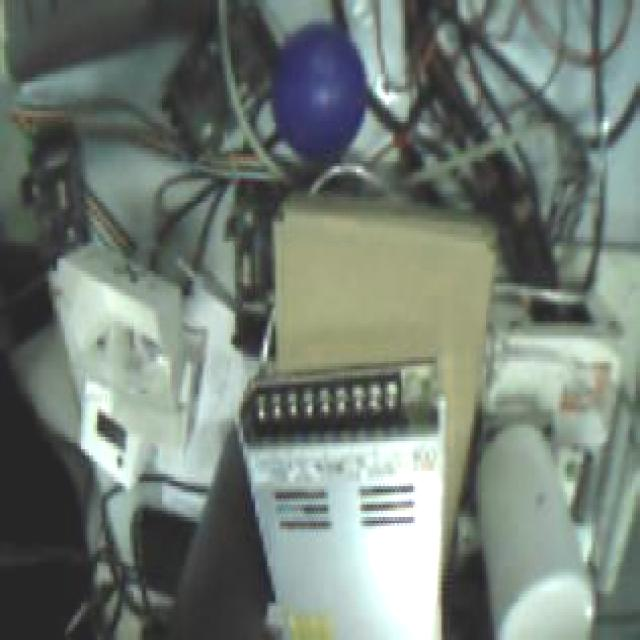BallPurple: (269, 22, 367, 162)
